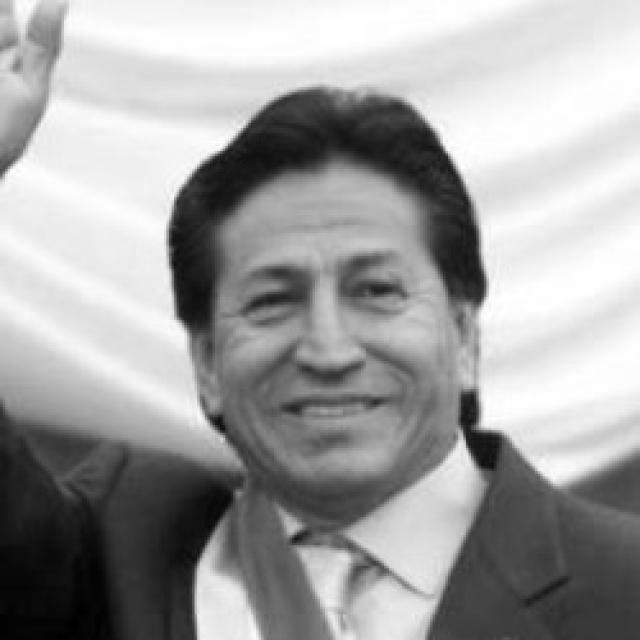real: (208, 171, 453, 487), (235, 267, 416, 329)
